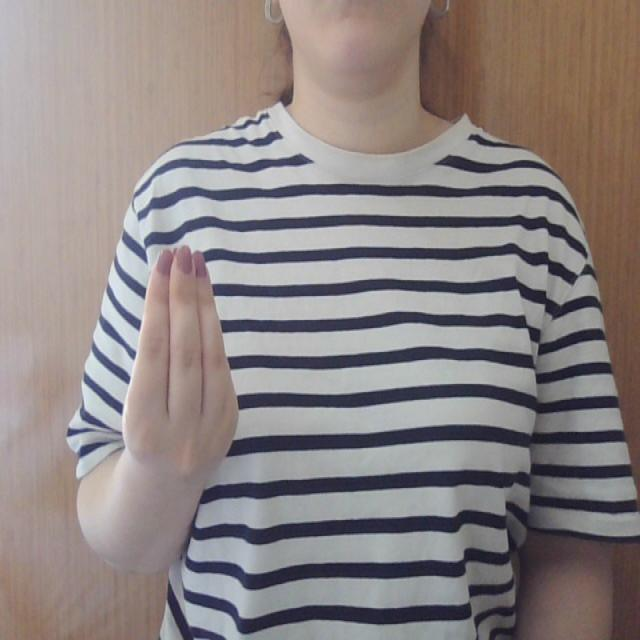iyi: (120, 241, 242, 475)
